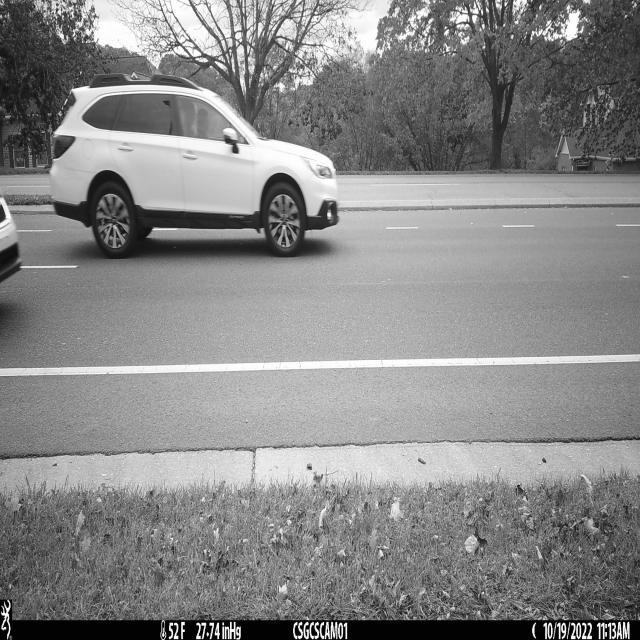SUV: (49, 73, 340, 259)
